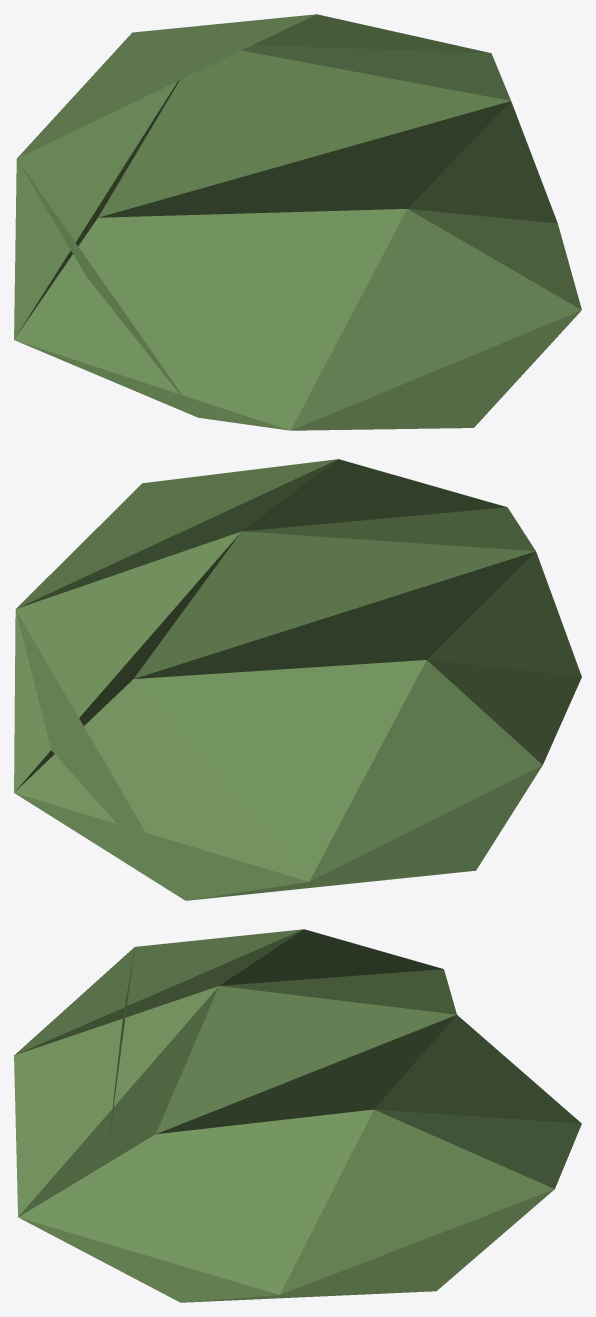
File: bush_2.glb
The picture shows the model from 3 angles, top to bottom: view 1: azimuth 30°, elevation 25°; view 2: azimuth 150°, elevation 25°; view 3: azimuth 270°, elevation 25°; orthographic projection. The views are drawn at different scales.
Bounding box in the file's own units: 2.18 × 1.6 × 2.48.
